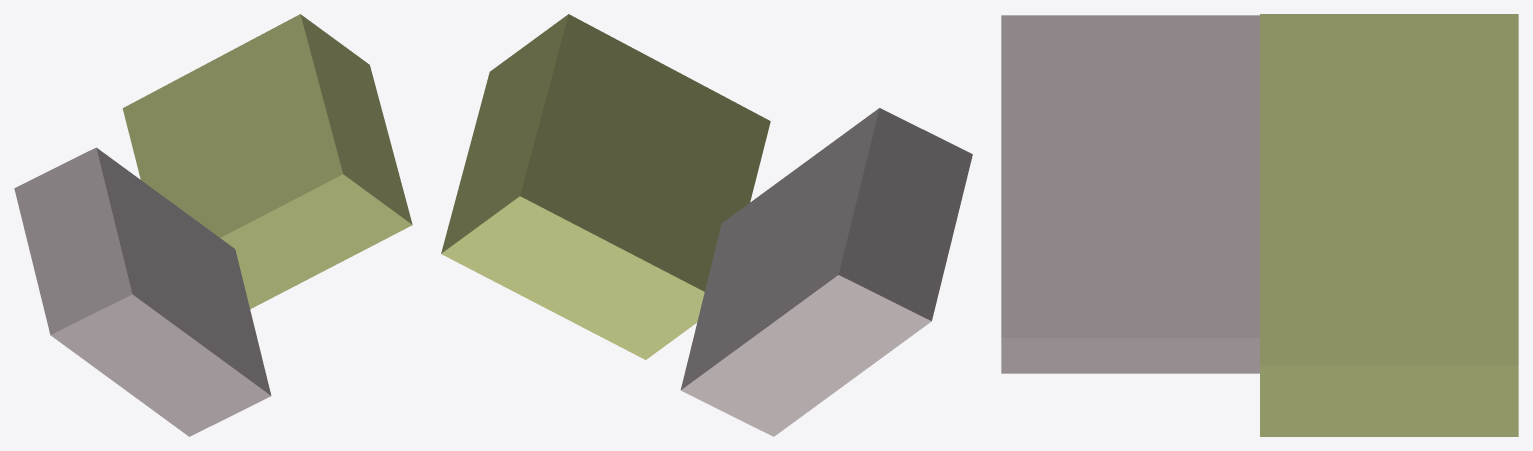
3 views of the same model, side by side, from view 1: azimuth 30°, elevation 25°; view 2: azimuth 150°, elevation 25°; view 3: azimuth 270°, elevation 25° (orthographic). The views are drawn at different scales.
Parts seen in each view (by area): view 1: 0_1_0_2_0_0_2_0_2_2; view 2: 0_1_0_2_0_0_2_0_2_2; view 3: 0_1_0_2_0_0_2_0_2_2.
Part boxes in pixels (left/top/right/bottom): 0_1_0_2_0_0_2_0_2_2: left=14, top=14, right=412, bottom=436; 0_1_0_2_0_0_2_0_2_2: left=441, top=14, right=972, bottom=436; 0_1_0_2_0_0_2_0_2_2: left=1001, top=14, right=1518, bottom=436.
Size of the model in its own units: 16.4 by 12.4 by 12.
